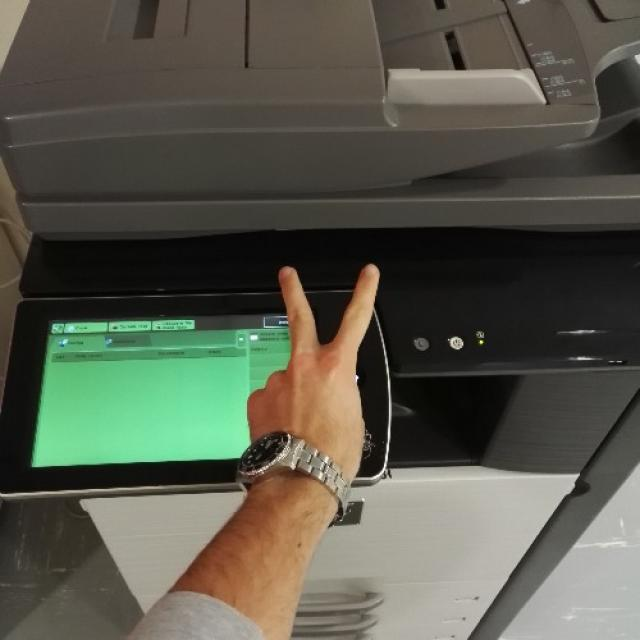scissors: (249, 262, 379, 466)
